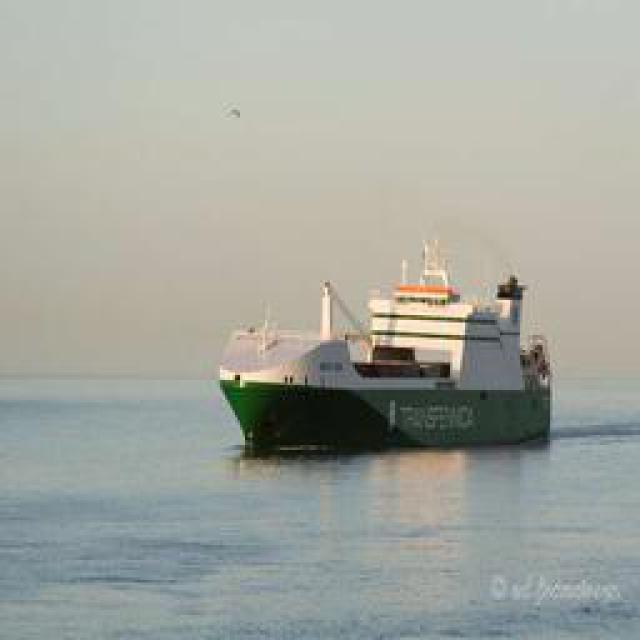Ship: (220, 256, 555, 449)
